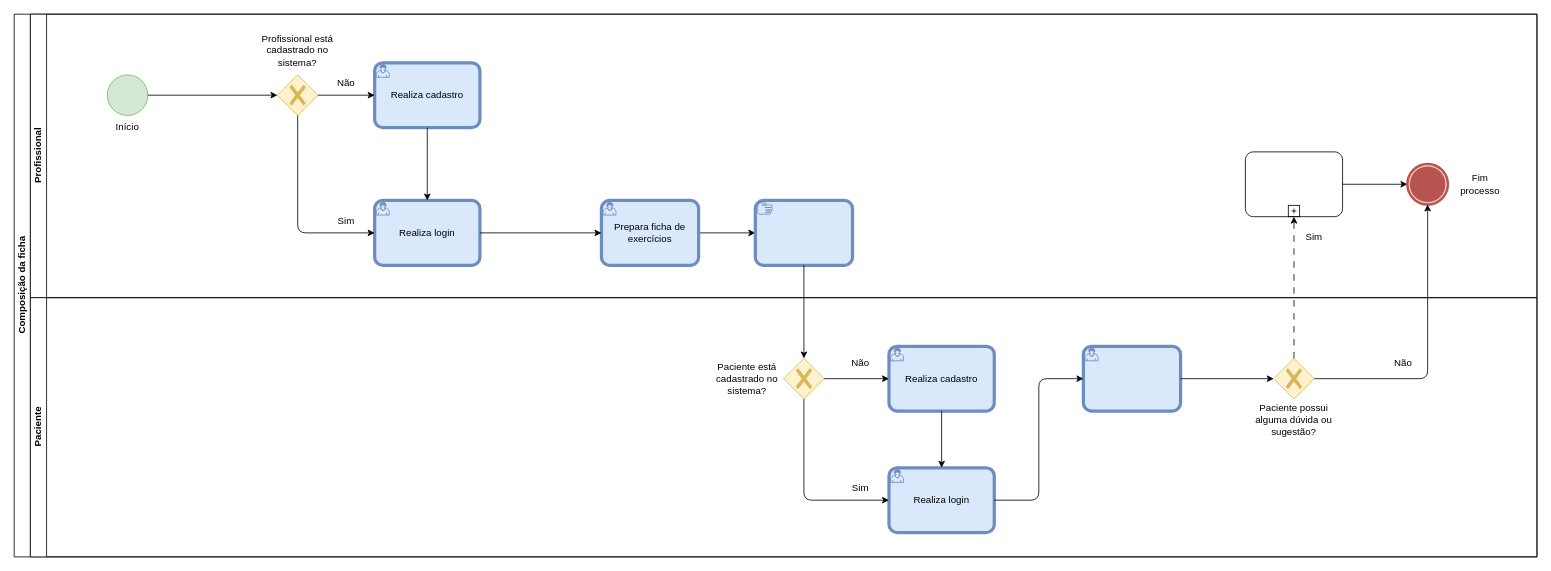
This 1551x571 diagram has some shape labels left out. The shapes that lost their labels are listed below. From the top down, each one's centre as x and y in pixels, then its label:
At pixel 1294 184: "Processo de ajuda".
At pixel 804 232: "Explica sobre cada exercício e seus benefícios ao paciente".
At pixel 1132 378: "Analisa a ficha proposta pelo profissional".
